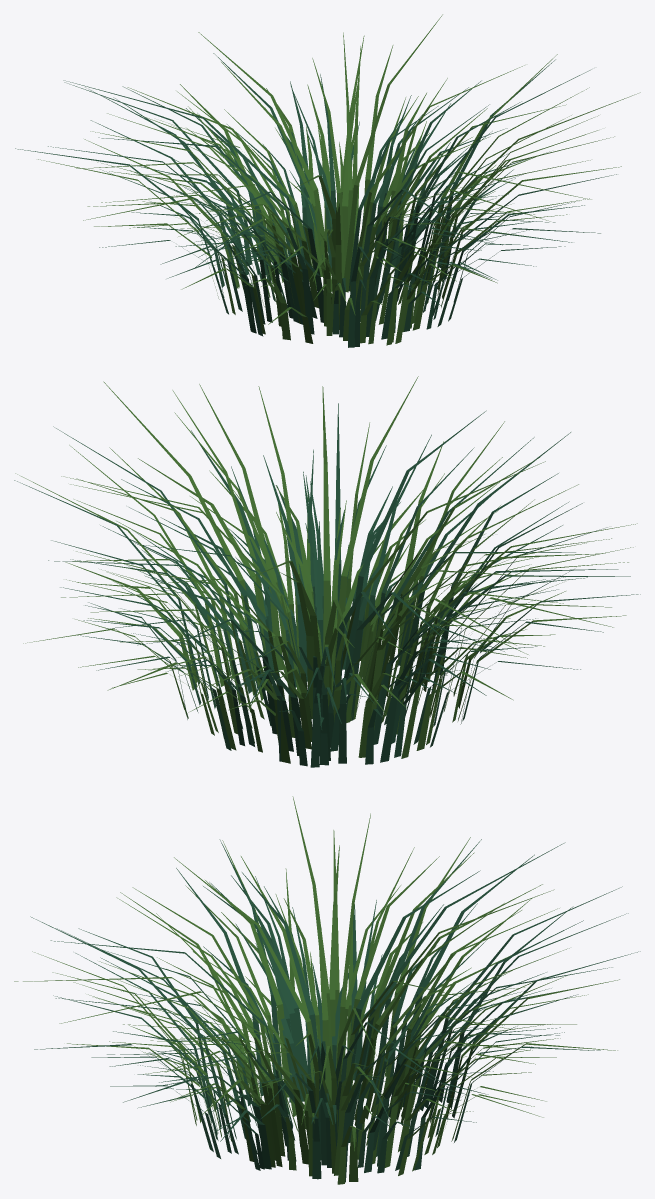
Rendered from shade_grass_v3.glb.
The picture shows the model from 3 angles, top to bottom: view 1: azimuth 30°, elevation 25°; view 2: azimuth 150°, elevation 25°; view 3: azimuth 270°, elevation 25°; orthographic projection. The views are drawn at different scales.
Parts seen in each view (by area): view 1: shade_grass_v3; view 2: shade_grass_v3; view 3: shade_grass_v3.
Boxes of the visible parts, <box> form: shade_grass_v3: <box>15,14,640,347</box>; shade_grass_v3: <box>14,376,640,767</box>; shade_grass_v3: <box>14,796,640,1184</box>.
Bounding box in the file's own units: 0.9345 × 0.3678 × 0.9307.
